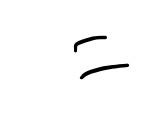eqv: (74, 31, 130, 80)
